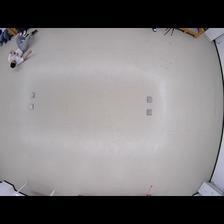fall: (6, 28, 40, 68)
